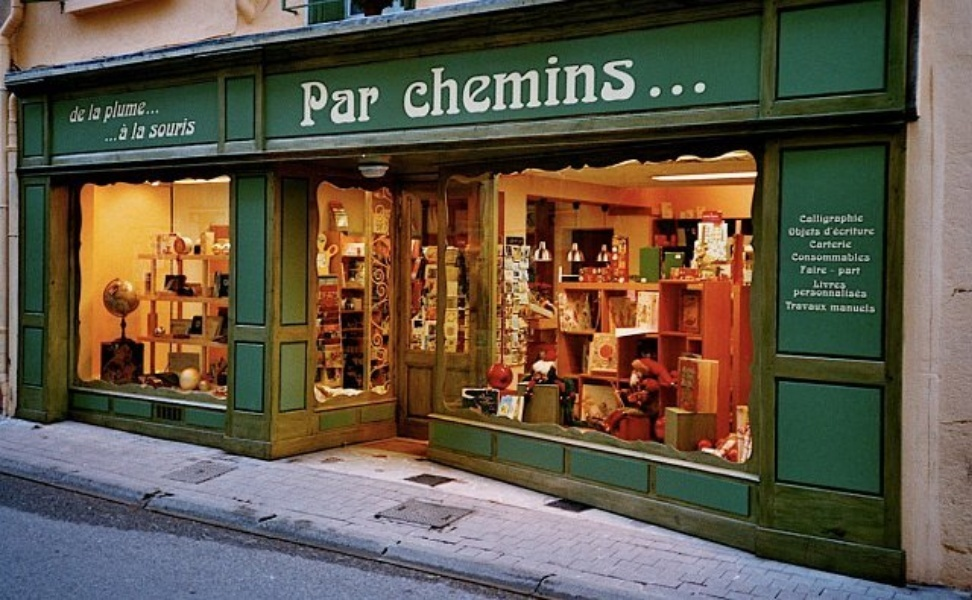text: (417, 49, 432, 121), (433, 49, 448, 121), (449, 49, 464, 121), (465, 49, 480, 121), (481, 49, 496, 121), (497, 49, 512, 121), (513, 49, 528, 121), (529, 49, 544, 121), (545, 49, 560, 121), (561, 49, 576, 121), (577, 49, 592, 121), (593, 49, 608, 121), (609, 49, 624, 121), (403, 49, 416, 121), (625, 49, 637, 121), (305, 75, 320, 128), (321, 75, 336, 128), (337, 75, 352, 128), (353, 75, 368, 128), (369, 75, 380, 128), (113, 99, 128, 124), (129, 99, 144, 124), (161, 117, 176, 139), (177, 117, 192, 139), (145, 99, 158, 124), (113, 122, 128, 142), (657, 81, 672, 98), (673, 81, 688, 98), (689, 81, 704, 98), (300, 75, 304, 128), (69, 105, 80, 124), (134, 122, 144, 140), (801, 288, 816, 300), (817, 288, 832, 300), (833, 288, 848, 300), (849, 288, 864, 300), (152, 117, 160, 139), (801, 213, 816, 224), (817, 213, 832, 224), (833, 213, 848, 224), (833, 225, 848, 236), (849, 225, 864, 236), (817, 237, 832, 248), (833, 237, 848, 248), (817, 278, 832, 289), (849, 213, 863, 224), (801, 227, 816, 237), (801, 265, 816, 275), (817, 265, 832, 275), (833, 265, 848, 275), (785, 300, 800, 310), (801, 300, 816, 310), (833, 303, 848, 313), (849, 303, 864, 313), (833, 278, 846, 289), (105, 122, 112, 142), (801, 253, 816, 262), (817, 253, 832, 262), (833, 253, 848, 262), (849, 253, 864, 262), (787, 227, 800, 237), (107, 99, 112, 124), (649, 81, 656, 98), (822, 225, 832, 236), (865, 225, 875, 236), (849, 265, 860, 275), (90, 104, 96, 121), (817, 300, 827, 310), (865, 303, 875, 313), (81, 105, 86, 124), (790, 253, 800, 262), (808, 237, 816, 248), (97, 104, 102, 121), (793, 288, 800, 300), (193, 117, 196, 139), (865, 253, 871, 262), (849, 237, 853, 248), (812, 278, 816, 289), (705, 215, 719, 218), (817, 227, 821, 237), (865, 288, 868, 300), (705, 81, 707, 98), (513, 239, 523, 242), (798, 213, 800, 224), (129, 122, 130, 142), (830, 303, 832, 313), (145, 122, 146, 140), (508, 239, 512, 242), (799, 265, 800, 275), (702, 215, 704, 218)
